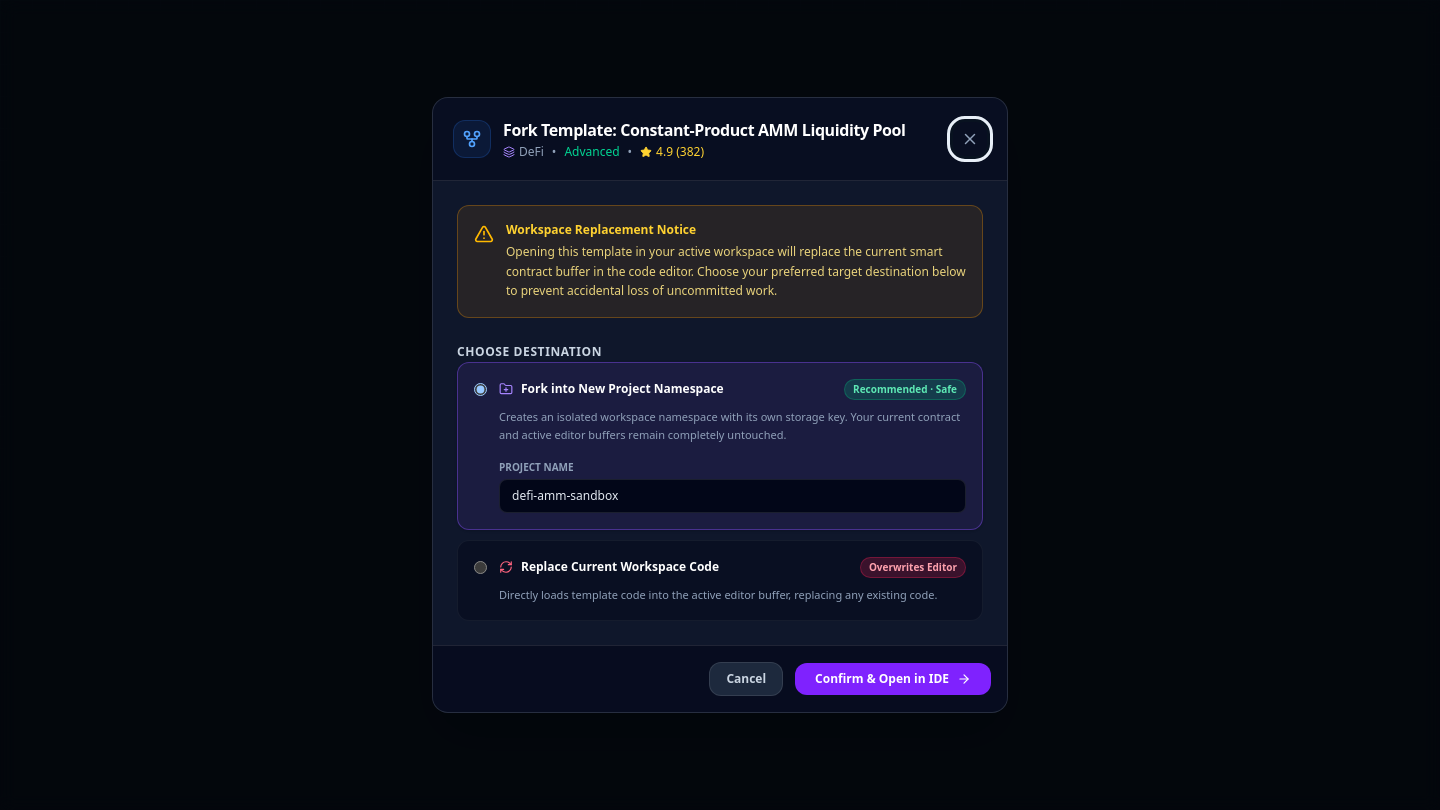
Test: TemplateForkModal Component › triggers automatic safety backup when choosing to replace active workspace code
Later steps or results of the test are not shown.
// Select "Replace Current Workspace Code"
Click the element with test id "option-replace-current": point(720, 580) x1=457 y1=540 x2=983 y2=621
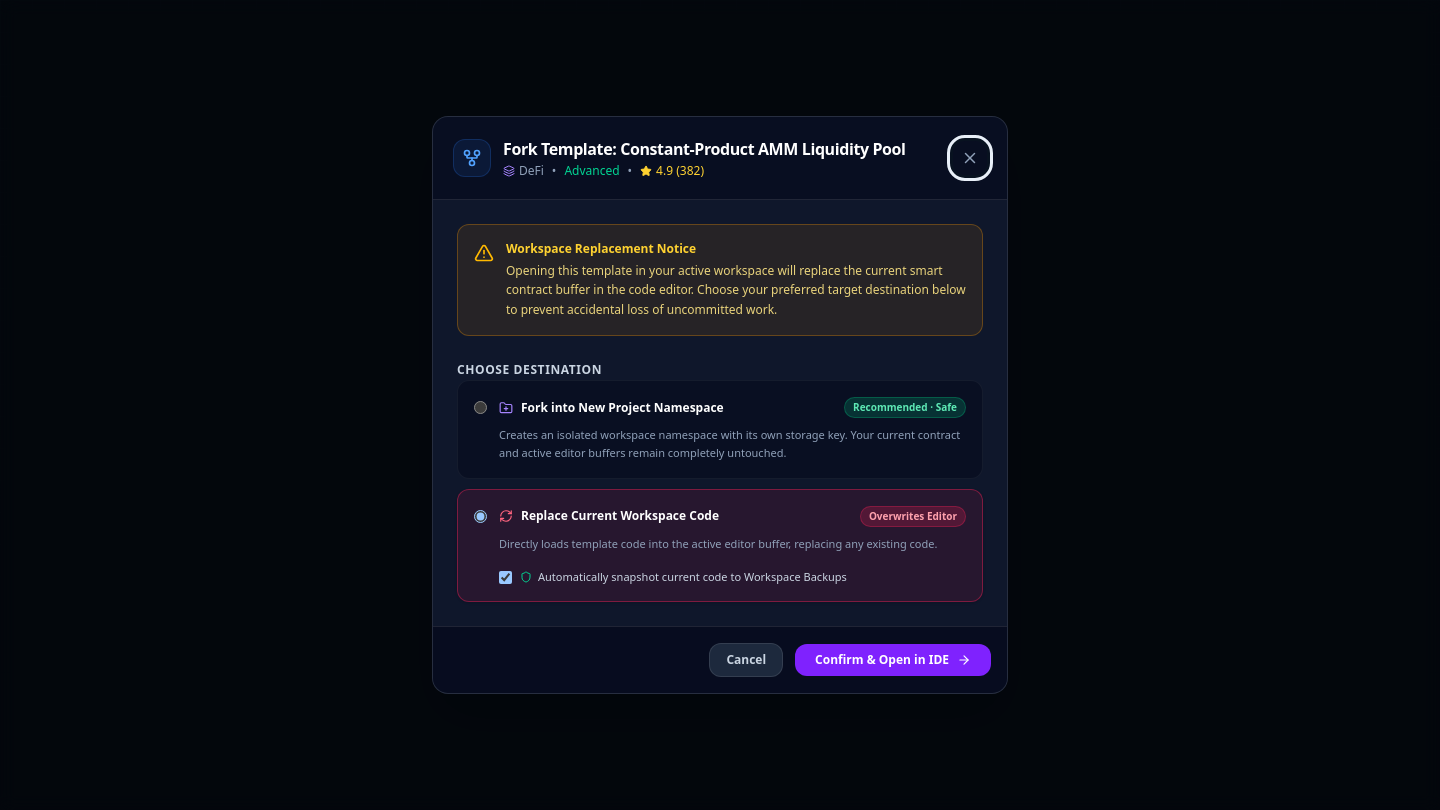
Check: the checkbox with test id "auto-backup-checkbox" is checked, box x1=499 y1=571 x2=512 y2=584
